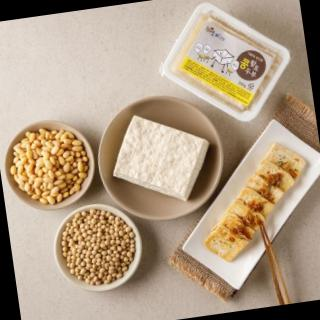Tahu: (95, 104, 219, 213)
